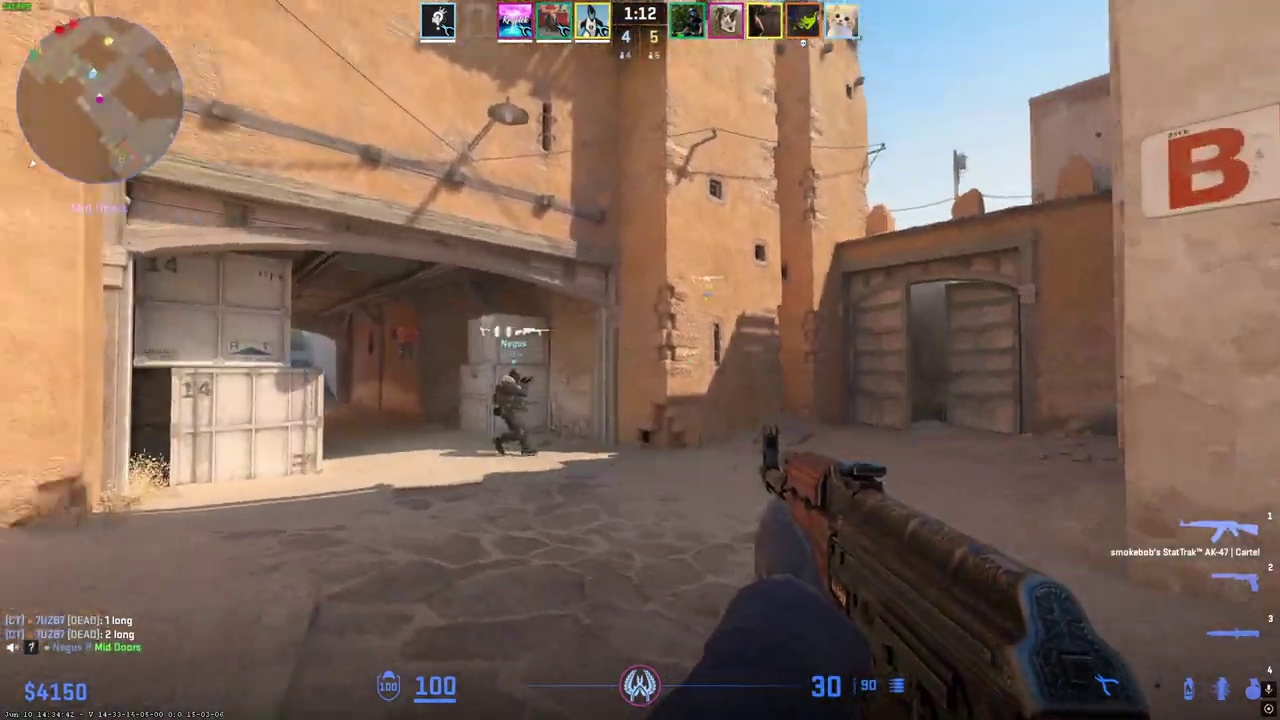CT: (492, 369, 535, 456)
